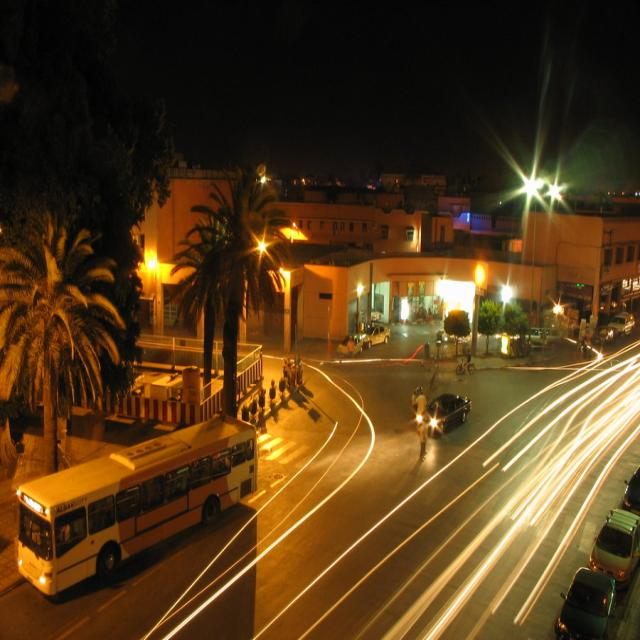Bus: (7, 396, 269, 598)
car: (549, 559, 624, 640), (584, 499, 639, 576), (422, 388, 474, 437), (363, 311, 388, 353), (338, 331, 366, 360)
